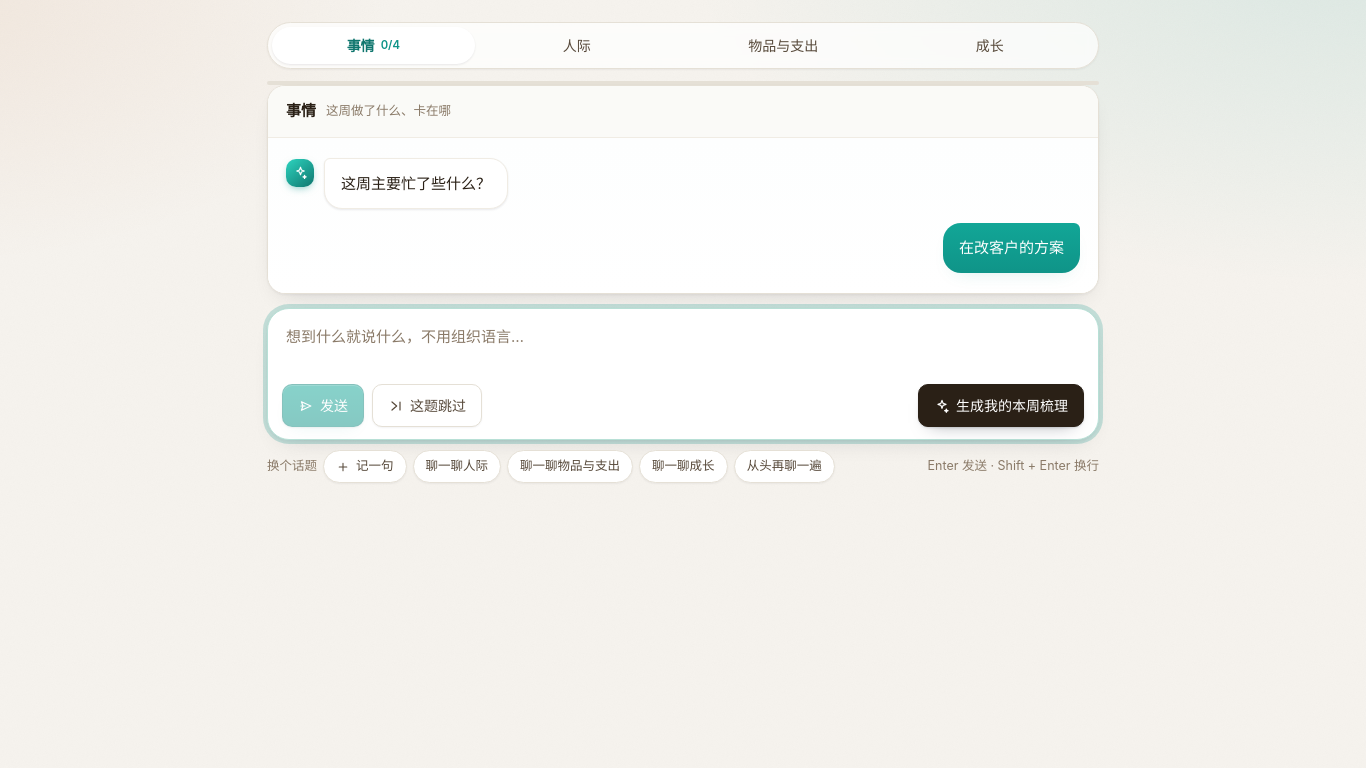
Test: 随心记 · 采访里的抽屉 › 抽屉里那份是「紧凑版」：底下不再摆开始按钮，右上角换成收起来
Click the button "记一句": coordinates (365, 467) [323,450,406,483]
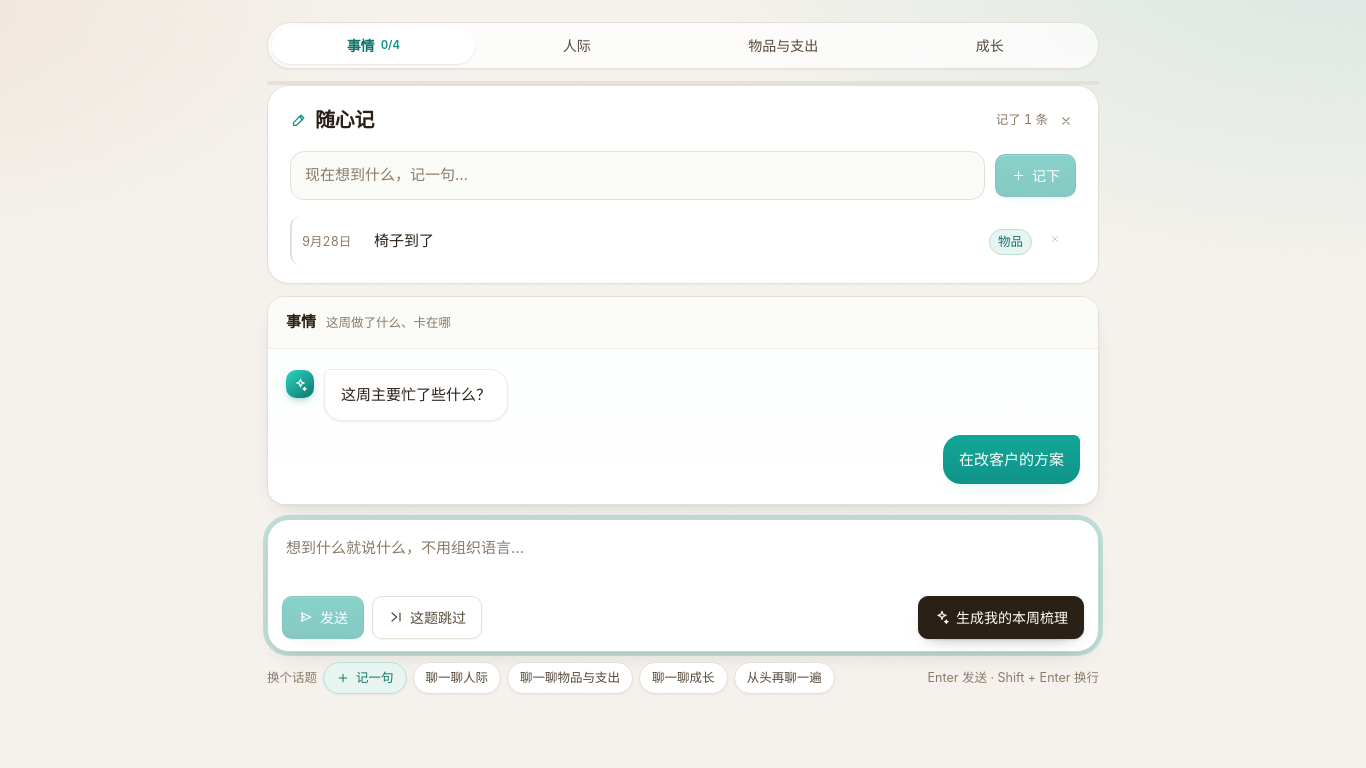
Click the button with class "note-close": coordinates (1066, 121) [1056,111,1076,131]
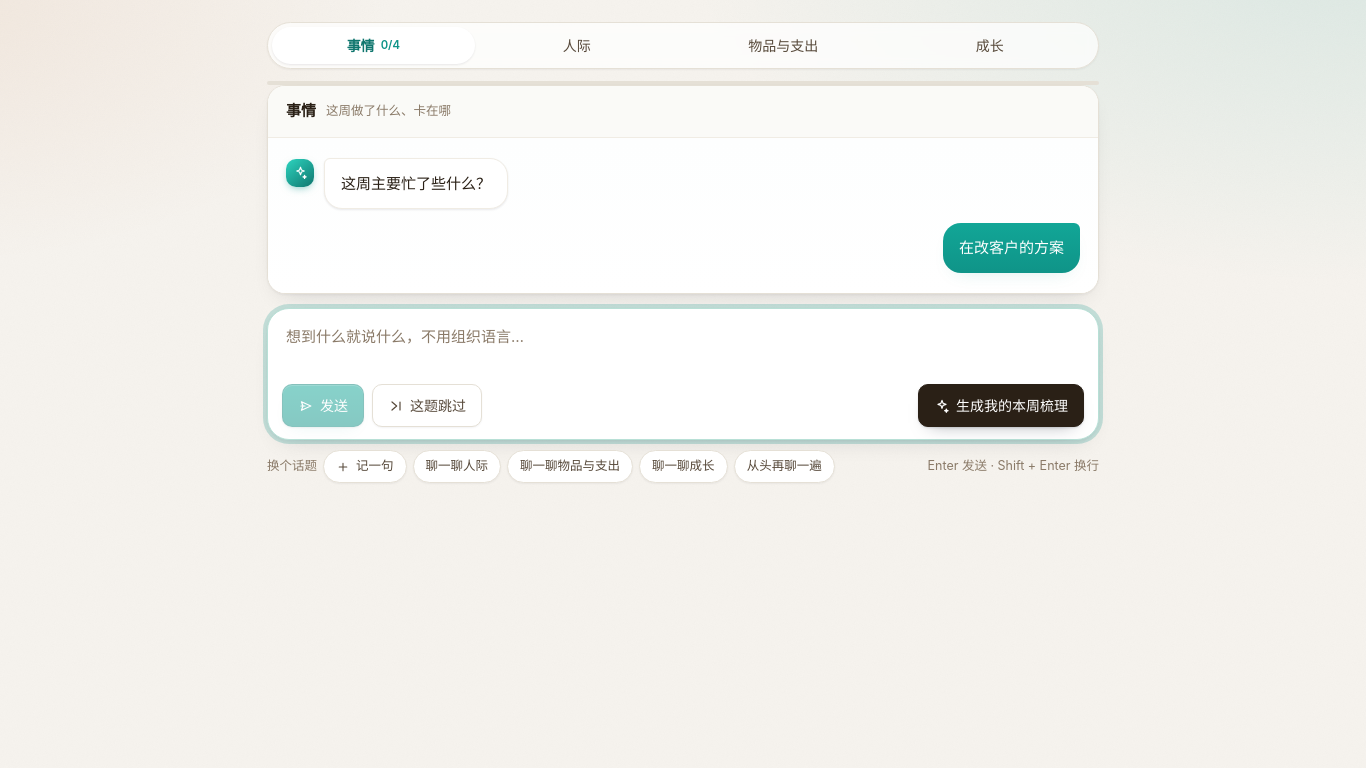
Expected: the element with class "notes-drawer" is gone
